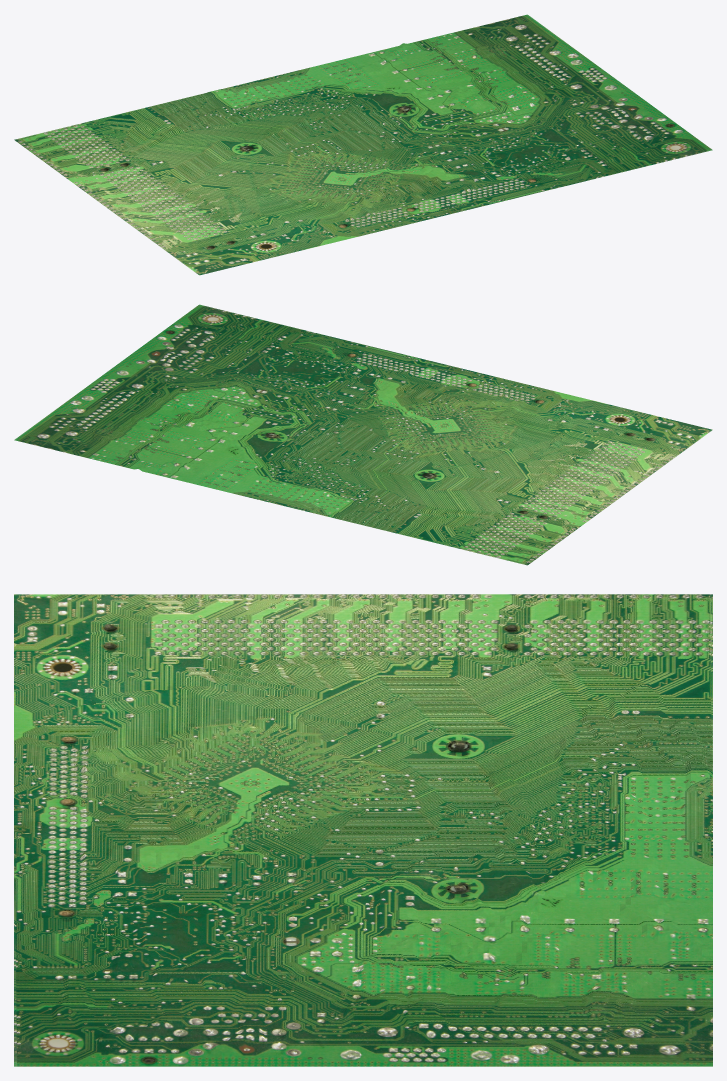
The model's file is terreno.glb.
The picture shows the model from 3 angles, top to bottom: view 1: azimuth 30°, elevation 25°; view 2: azimuth 150°, elevation 25°; view 3: azimuth 270°, elevation 25°; orthographic projection. The views are drawn at different scales.
Visible parts, largest first — view 1: EXPORT_GOOGLE_SAT_WM; view 2: EXPORT_GOOGLE_SAT_WM; view 3: EXPORT_GOOGLE_SAT_WM.
Boxes of the visible parts, x1,y1,x2,y2 form: EXPORT_GOOGLE_SAT_WM: (14, 14, 712, 275); EXPORT_GOOGLE_SAT_WM: (14, 304, 712, 565); EXPORT_GOOGLE_SAT_WM: (14, 594, 712, 1066).
Size of the model in its own units: 4892 by 28 by 3057.
Materials: 1 (1 with a texture image).
